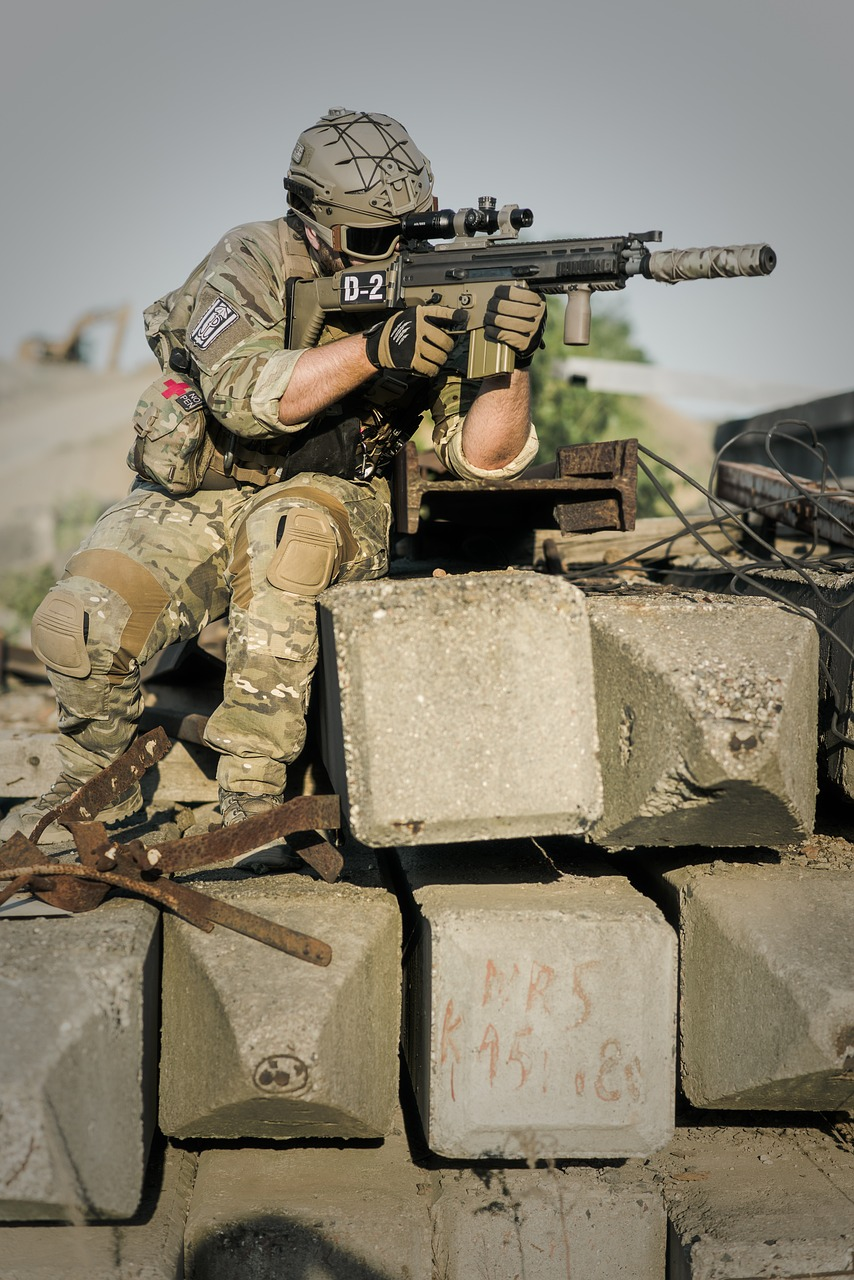gun: (278, 192, 780, 388)
